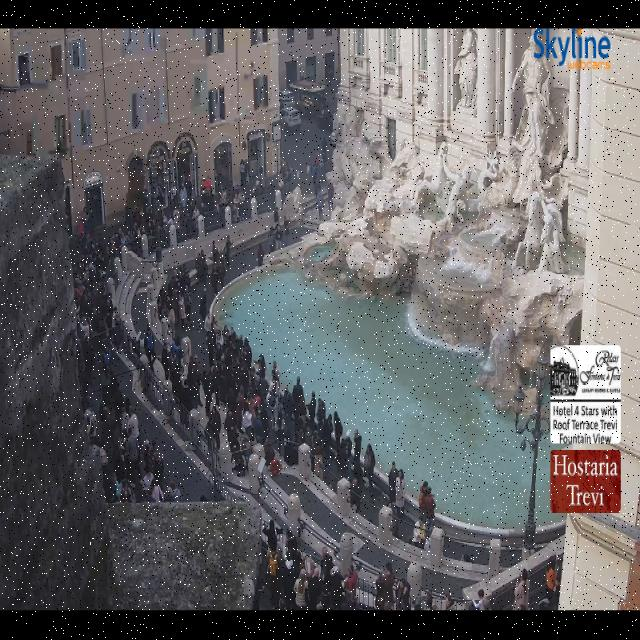person: (74, 229, 123, 408), (75, 214, 113, 334), (207, 322, 243, 422), (208, 335, 248, 424), (210, 363, 245, 443), (76, 335, 111, 411), (263, 525, 304, 588), (255, 377, 300, 433), (84, 369, 116, 446), (240, 364, 267, 438), (295, 553, 330, 610), (237, 341, 261, 415), (91, 430, 127, 479), (77, 334, 110, 385), (250, 378, 270, 448), (265, 542, 285, 610), (108, 223, 144, 257), (163, 337, 182, 399), (216, 324, 242, 367), (213, 321, 227, 399), (172, 366, 195, 411), (267, 541, 282, 610), (217, 185, 244, 222), (163, 187, 185, 232), (193, 189, 219, 227), (281, 554, 298, 610), (376, 562, 395, 610), (211, 182, 231, 226), (193, 178, 215, 217), (170, 335, 183, 399), (229, 431, 247, 477), (99, 448, 114, 502), (166, 267, 186, 306), (419, 483, 435, 531), (126, 426, 139, 483), (235, 386, 250, 435), (188, 356, 202, 408), (285, 406, 304, 444), (167, 276, 183, 321), (168, 268, 183, 316), (110, 373, 124, 424), (513, 569, 530, 610), (82, 325, 95, 377), (218, 183, 243, 210), (80, 207, 96, 249), (213, 183, 228, 227), (206, 405, 221, 449), (293, 396, 307, 443), (546, 555, 559, 605), (282, 386, 294, 440), (269, 522, 284, 565), (173, 202, 193, 234), (266, 383, 279, 430), (329, 567, 343, 610), (133, 191, 147, 231), (211, 257, 225, 297), (308, 567, 321, 610), (319, 419, 332, 462), (84, 409, 100, 443), (364, 444, 375, 493), (294, 569, 307, 610), (316, 399, 332, 431), (295, 397, 307, 439), (232, 188, 247, 221), (201, 368, 211, 416), (224, 406, 237, 442), (127, 405, 139, 444), (388, 503, 401, 539), (211, 361, 221, 407), (167, 267, 184, 294), (345, 564, 357, 602), (145, 326, 156, 367), (263, 519, 278, 549), (396, 580, 411, 610), (425, 487, 435, 531), (416, 520, 431, 549), (275, 524, 286, 563), (396, 470, 405, 517), (388, 462, 398, 504), (201, 176, 212, 214), (163, 346, 176, 378), (318, 578, 331, 610), (313, 439, 323, 480), (113, 308, 123, 349), (320, 547, 332, 581), (336, 440, 347, 477), (412, 520, 426, 549), (471, 589, 490, 610), (99, 341, 111, 374), (242, 406, 254, 439), (196, 250, 207, 285), (176, 266, 190, 293), (252, 413, 264, 444), (210, 260, 220, 297), (419, 481, 428, 522), (345, 430, 352, 482), (196, 250, 207, 283), (168, 207, 183, 231), (152, 454, 163, 486), (316, 399, 327, 431), (316, 152, 330, 177), (106, 369, 120, 394), (255, 353, 266, 384), (151, 477, 164, 503), (286, 529, 298, 557), (334, 412, 343, 449), (215, 197, 226, 227), (142, 463, 153, 493), (104, 297, 112, 338), (161, 344, 170, 380), (352, 478, 361, 513), (308, 391, 316, 430), (215, 179, 227, 205), (292, 377, 303, 405), (468, 590, 483, 610), (232, 192, 243, 219), (242, 338, 252, 367), (144, 440, 155, 466), (353, 458, 363, 486), (237, 191, 247, 219), (120, 479, 132, 502), (179, 295, 187, 329), (354, 428, 362, 462), (218, 183, 228, 210), (272, 361, 281, 390), (278, 161, 287, 190), (148, 218, 158, 244), (184, 286, 191, 323), (200, 288, 207, 324), (132, 206, 142, 231), (170, 480, 181, 502), (479, 590, 491, 610), (204, 306, 212, 336), (195, 251, 203, 280), (225, 235, 232, 267), (217, 260, 225, 288), (256, 167, 264, 195), (127, 228, 138, 248), (116, 228, 127, 248), (168, 307, 176, 334), (109, 228, 121, 246), (78, 212, 86, 239), (424, 591, 435, 610), (125, 207, 136, 226), (145, 487, 157, 504), (275, 225, 283, 250), (295, 551, 305, 571), (257, 243, 265, 268), (316, 191, 323, 219), (285, 162, 293, 185), (185, 176, 192, 202), (268, 227, 275, 253), (328, 182, 334, 212), (180, 183, 187, 208), (212, 240, 219, 263), (318, 156, 323, 187), (284, 215, 289, 246), (445, 595, 455, 610), (311, 163, 317, 188), (210, 352, 221, 365), (320, 95, 327, 115), (204, 176, 212, 193), (125, 206, 131, 228), (539, 598, 550, 610), (240, 160, 245, 186), (322, 136, 327, 161), (165, 487, 173, 502), (278, 170, 284, 190), (280, 161, 286, 181), (277, 598, 286, 610), (314, 183, 320, 200), (274, 207, 279, 226), (461, 554, 471, 563), (414, 600, 423, 610), (200, 494, 209, 501), (314, 154, 319, 166), (520, 606, 527, 610)
